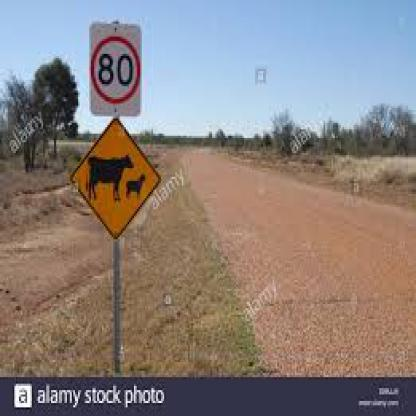Speed Limit 80: (90, 37, 140, 102)
